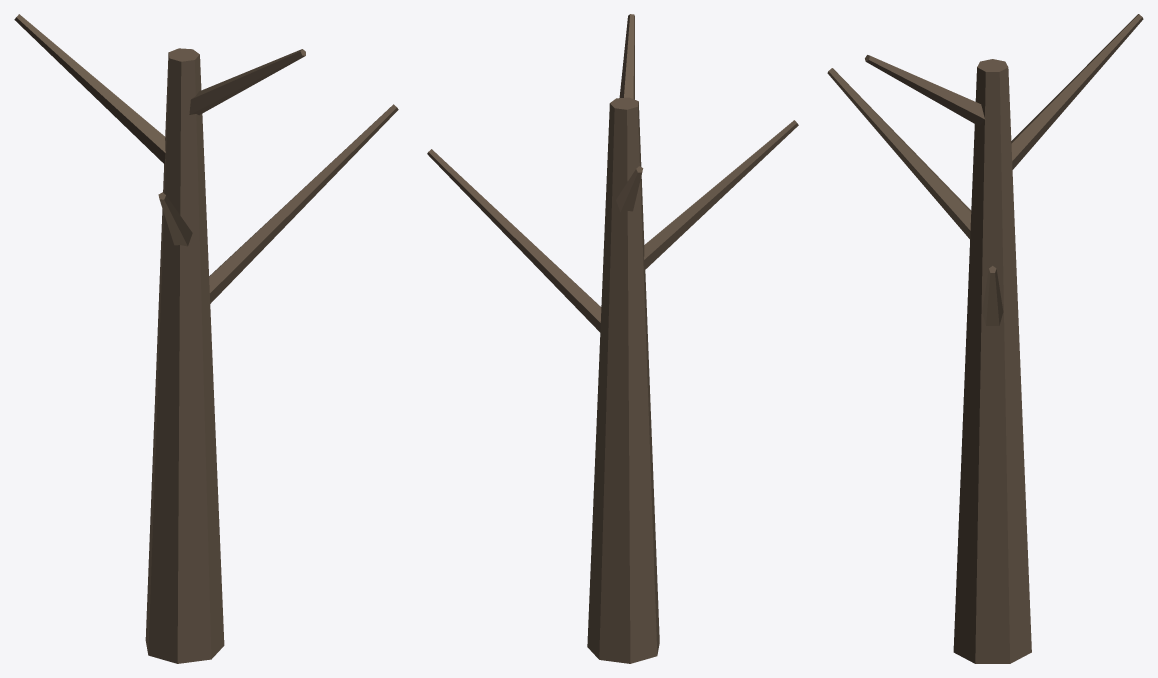
The model's file is tree_dead.glb.
3 views of the same model, side by side, from view 1: azimuth 30°, elevation 25°; view 2: azimuth 150°, elevation 25°; view 3: azimuth 270°, elevation 25° (orthographic). The views are drawn at different scales.
Parts seen in each view (by area): view 1: tree_dead; view 2: tree_dead; view 3: tree_dead.
Part boxes in pixels (x1,y1,x2,y2): tree_dead: [14, 14, 398, 663]; tree_dead: [427, 14, 798, 663]; tree_dead: [827, 14, 1143, 663].
Bounding box in the file's own units: 1.81 × 3.41 × 1.57.
